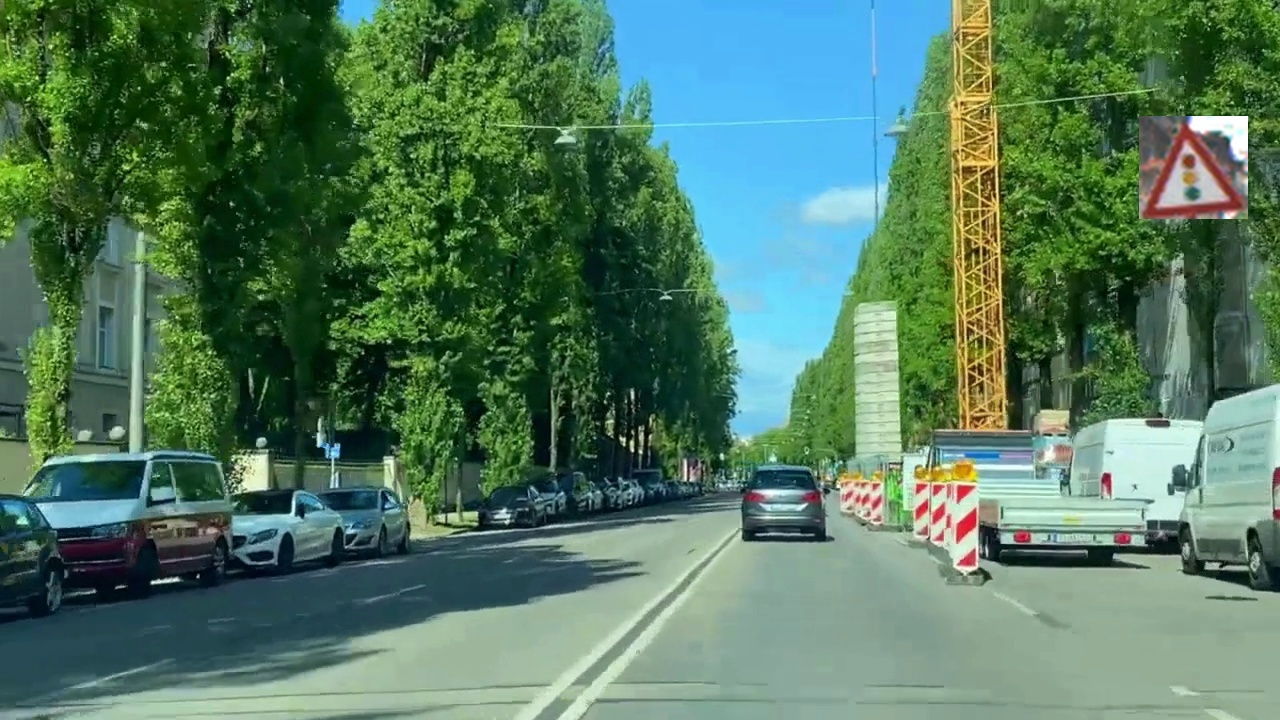Signals: (1139, 116, 1248, 219)
